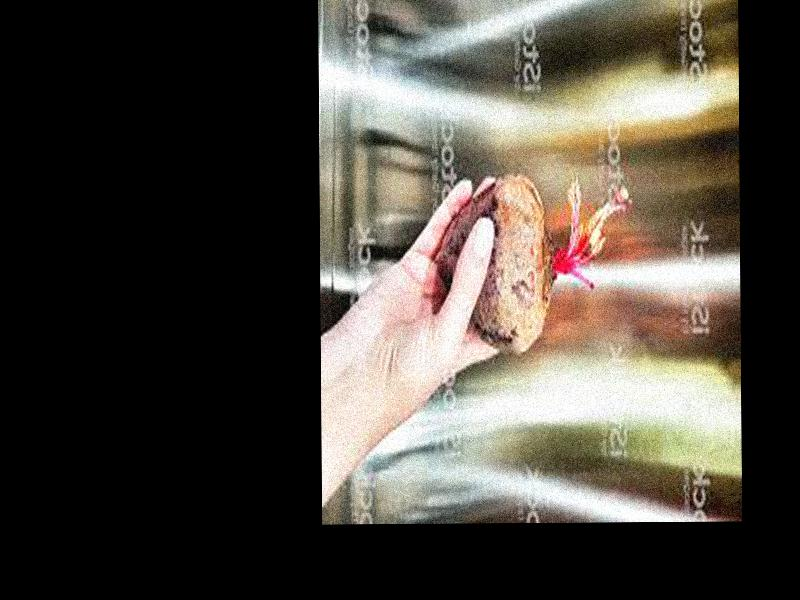Beet: (436, 173, 627, 351)
